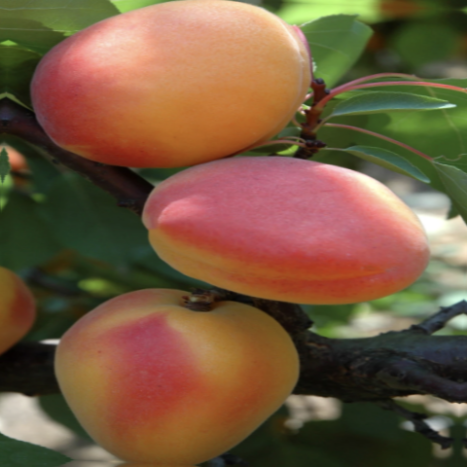mango: (10, 0, 333, 180), (31, 265, 323, 464), (135, 134, 436, 321)
